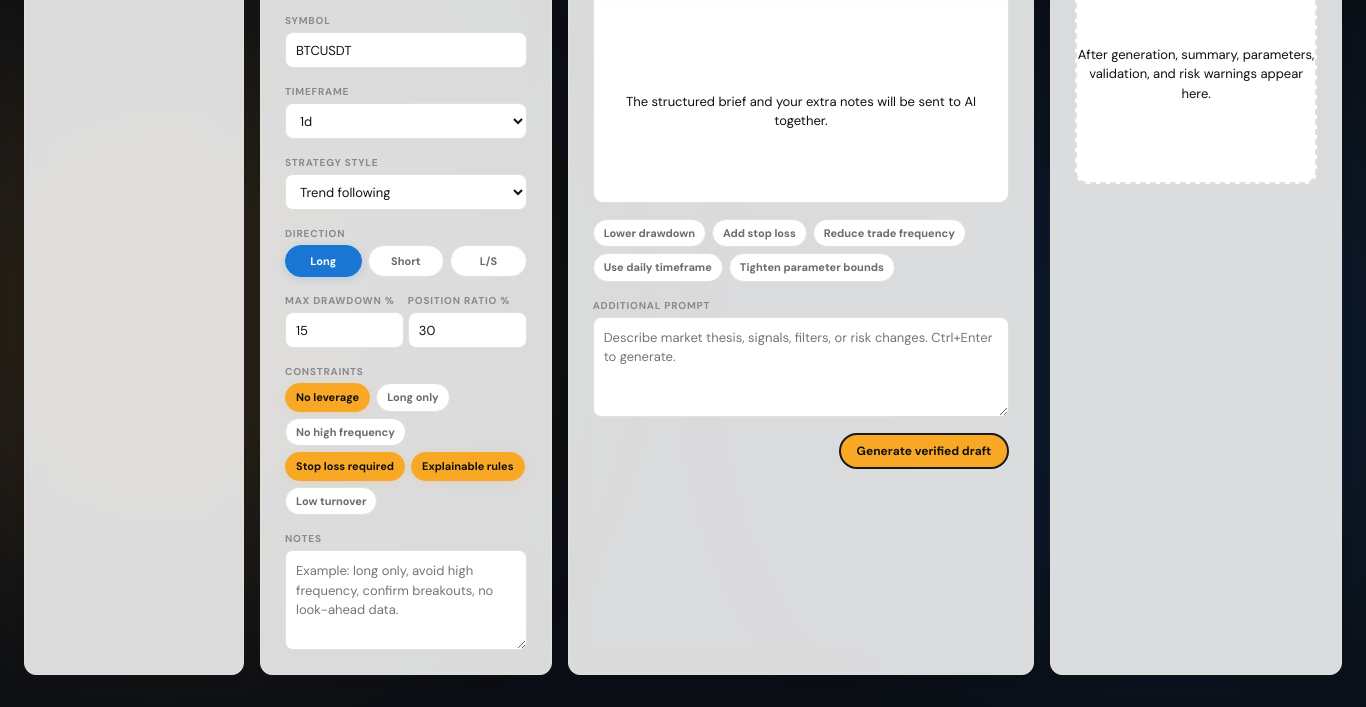
Test: AiStrategyLabView › renders QSGA verification details and blocks rejected drafts
(page scrolled)
Step 1. Replace the text in the text box with test id "ai-lab-prompt" with "Guarantee returns" → coordinates (801, 367), box [593, 317, 1009, 417]
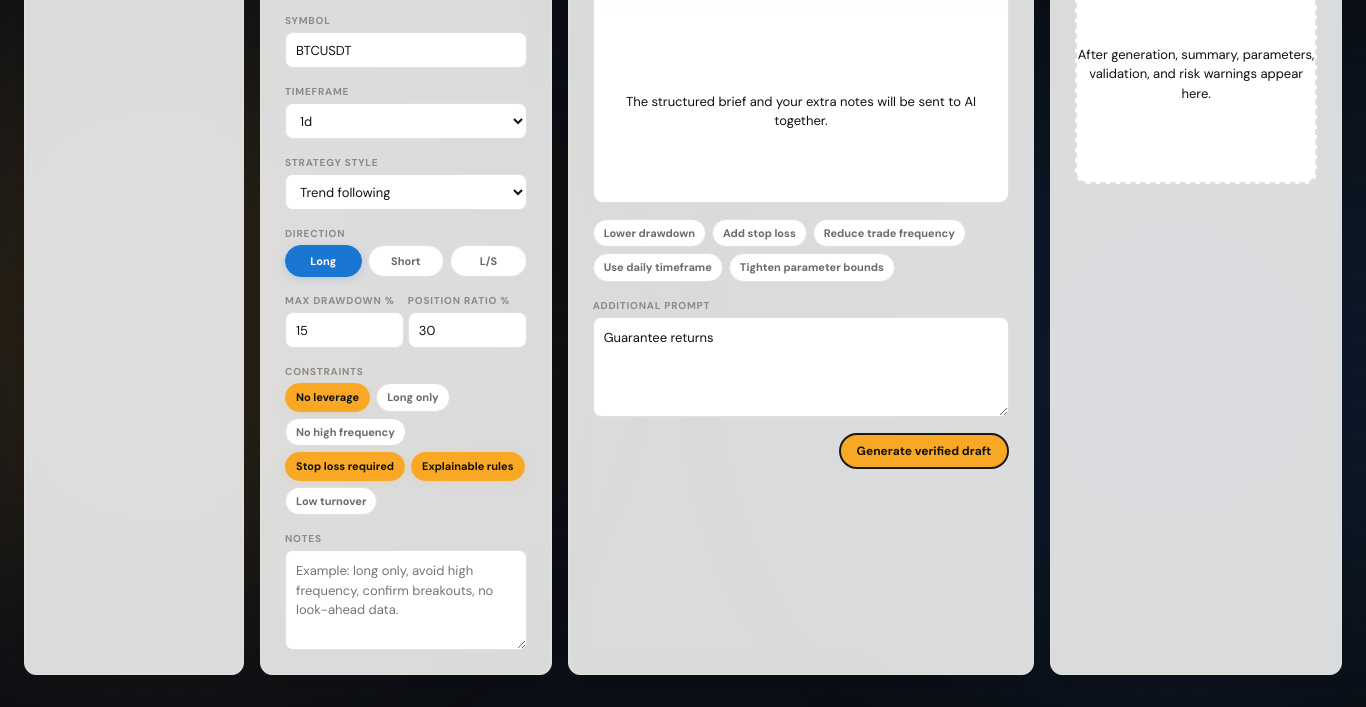
Step 2. Click the button with test id "ai-lab-generate" → coordinates (924, 451), box [839, 433, 1009, 469]
(page scrolled)
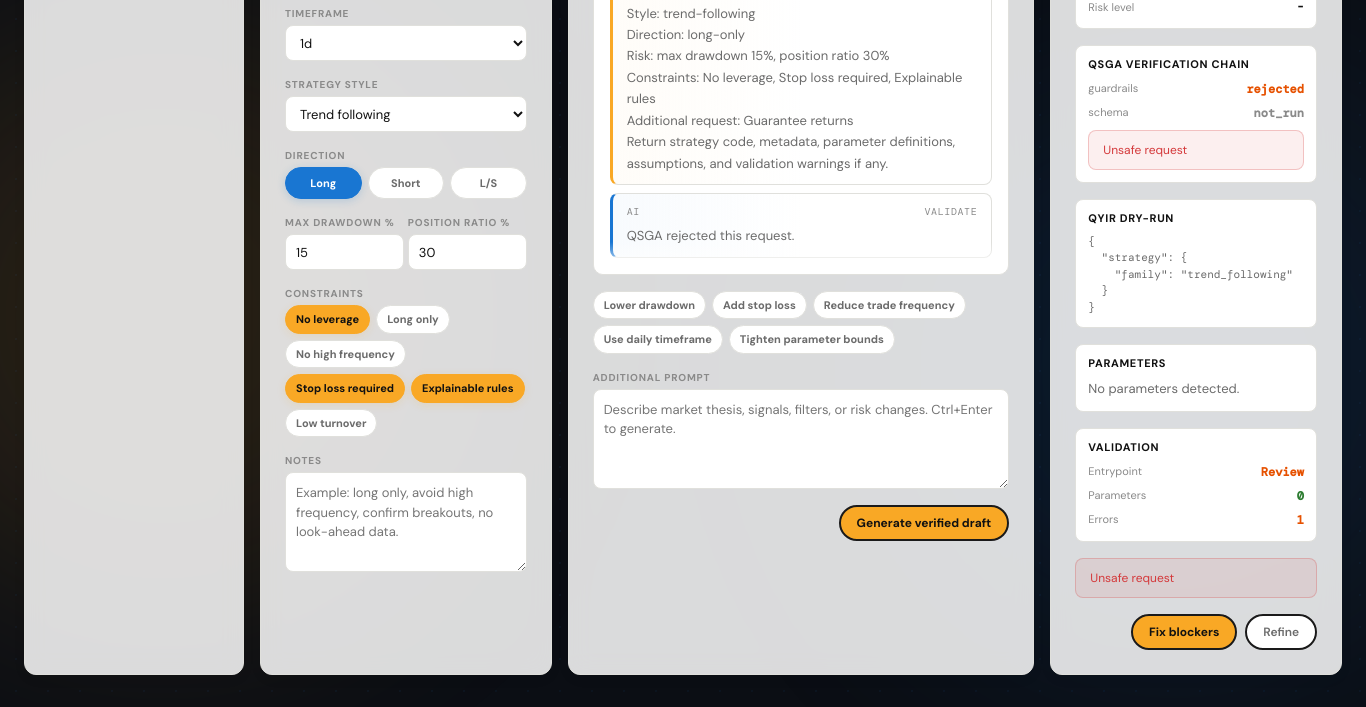
Now the text "QSGA verification chain" is shown, box [1088, 58, 1250, 72]
Now the text "rejected" is shown, box [627, 227, 794, 244]
Now the text "Unsafe request" is shown, box [1088, 130, 1304, 170]
